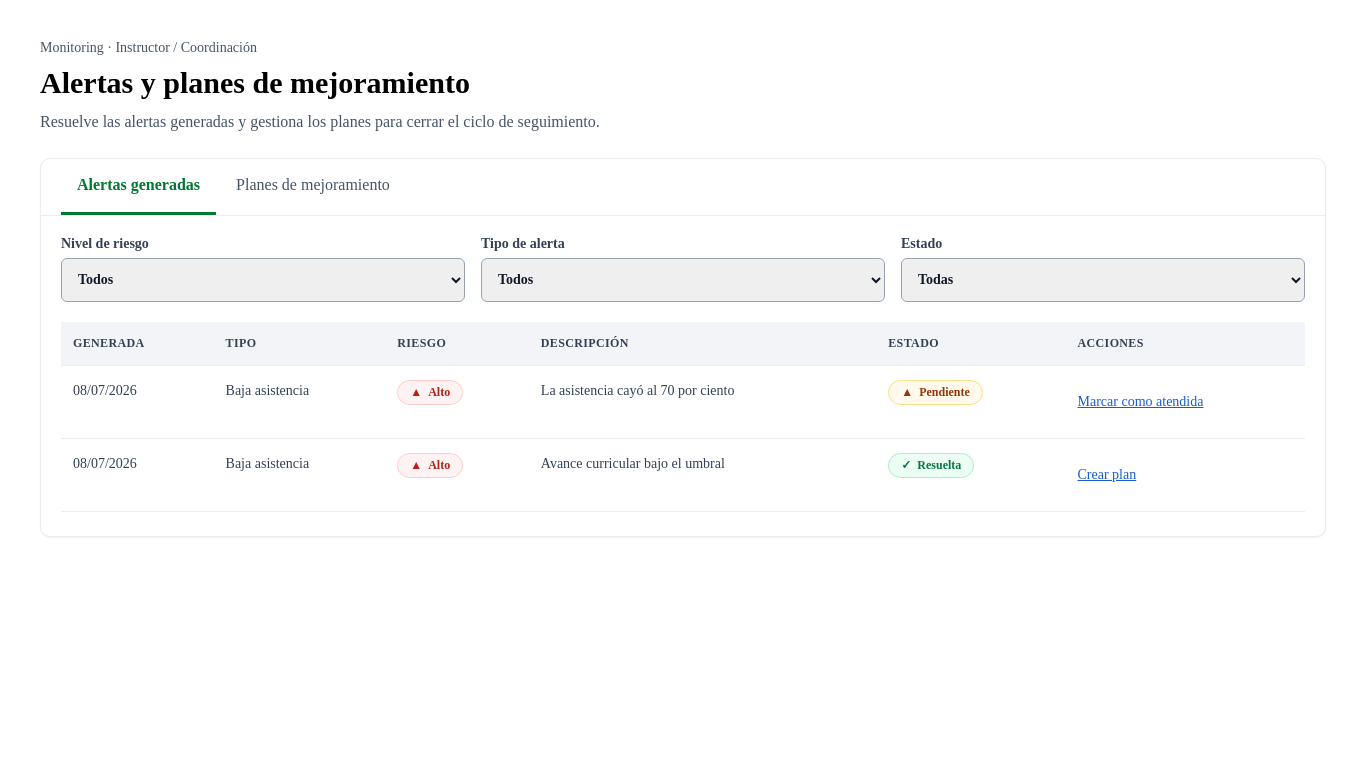
Test: HU-MON-008 alertas generadas y planes de mejoramiento › E2: si la API falla, el modal sigue abierto y muestra el error
The image size is (1366, 768).
expect the text "La asistencia cayó al 70 por ciento" is shown: met, box [529, 366, 876, 438]
Click the button "Marcar como atendida": x=1140, y=402 [1078, 380, 1204, 424]
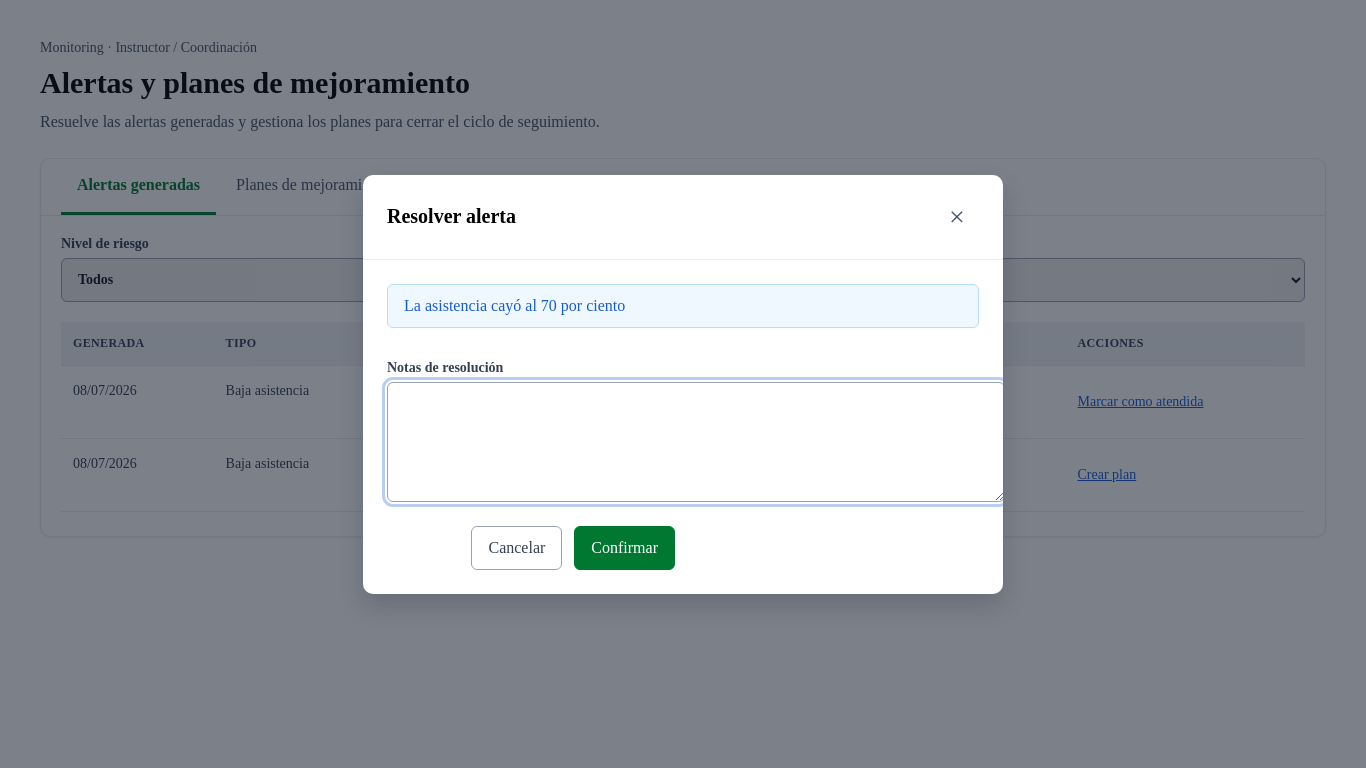
In the text box labelled "Notas de resolución": x=696, y=442 [387, 382, 1005, 502], type "Notas"
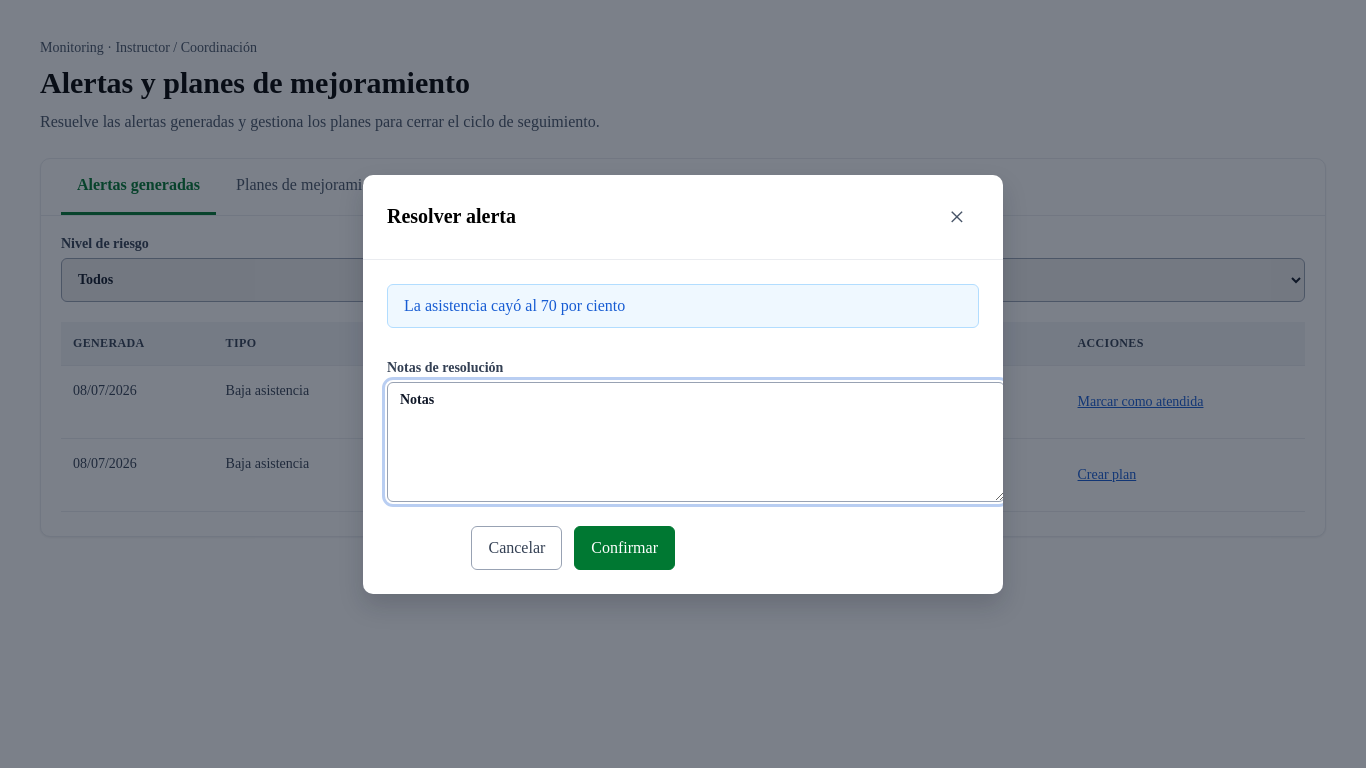
Click the button "Confirmar": x=625, y=548 [574, 526, 675, 570]
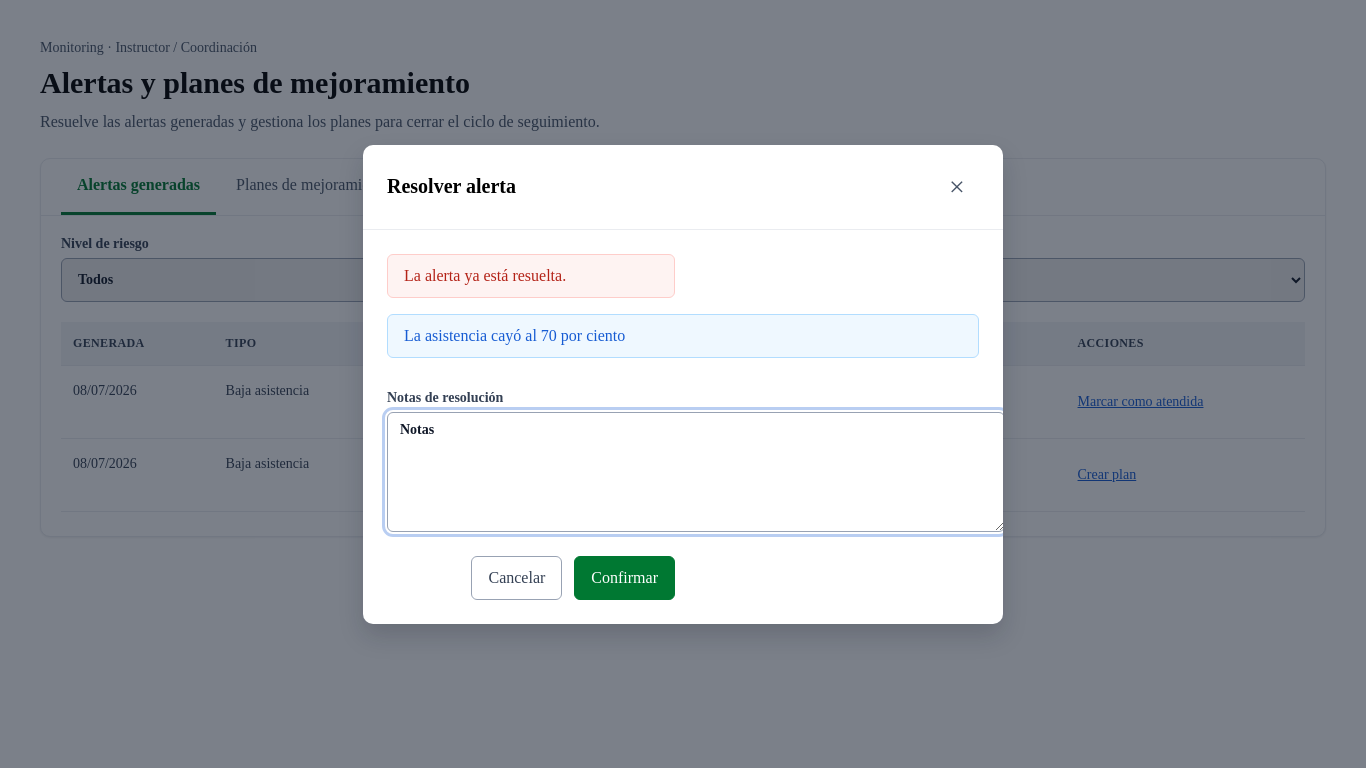
expect the dialog is shown: met, box [363, 144, 1003, 624]
expect the text "La alerta ya está resuelta." is shown: met, box [387, 254, 675, 298]
